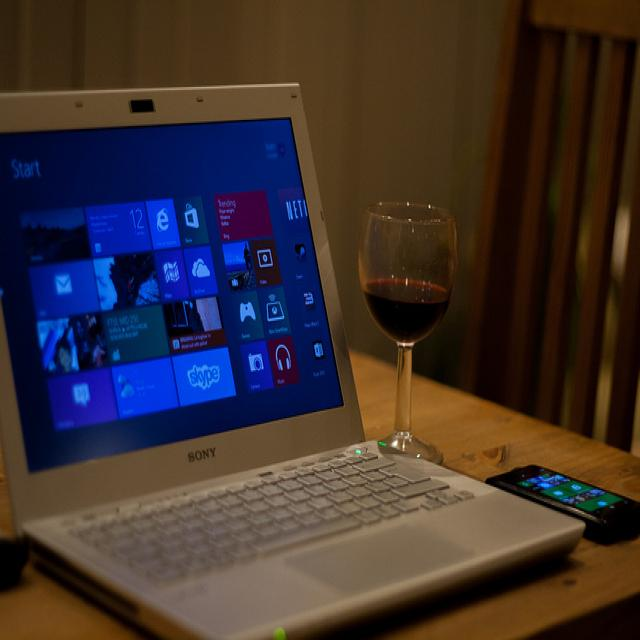chair: (454, 1, 640, 466)
dining table: (411, 377, 638, 505)
